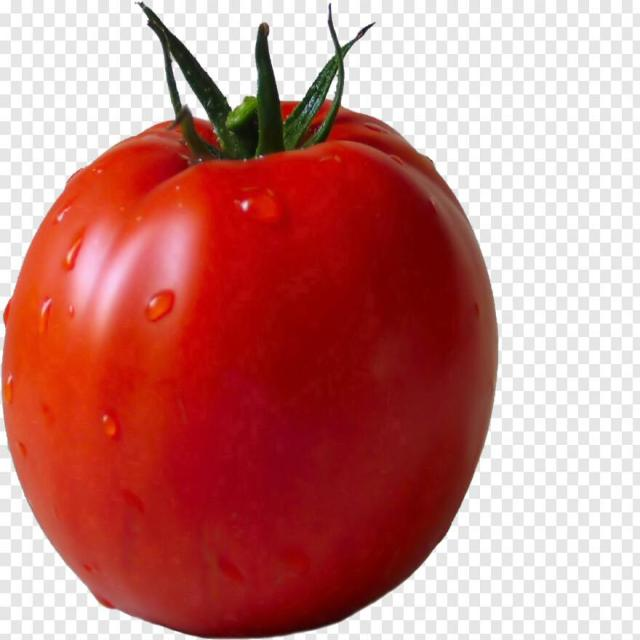Tomato: (9, 87, 498, 636)
